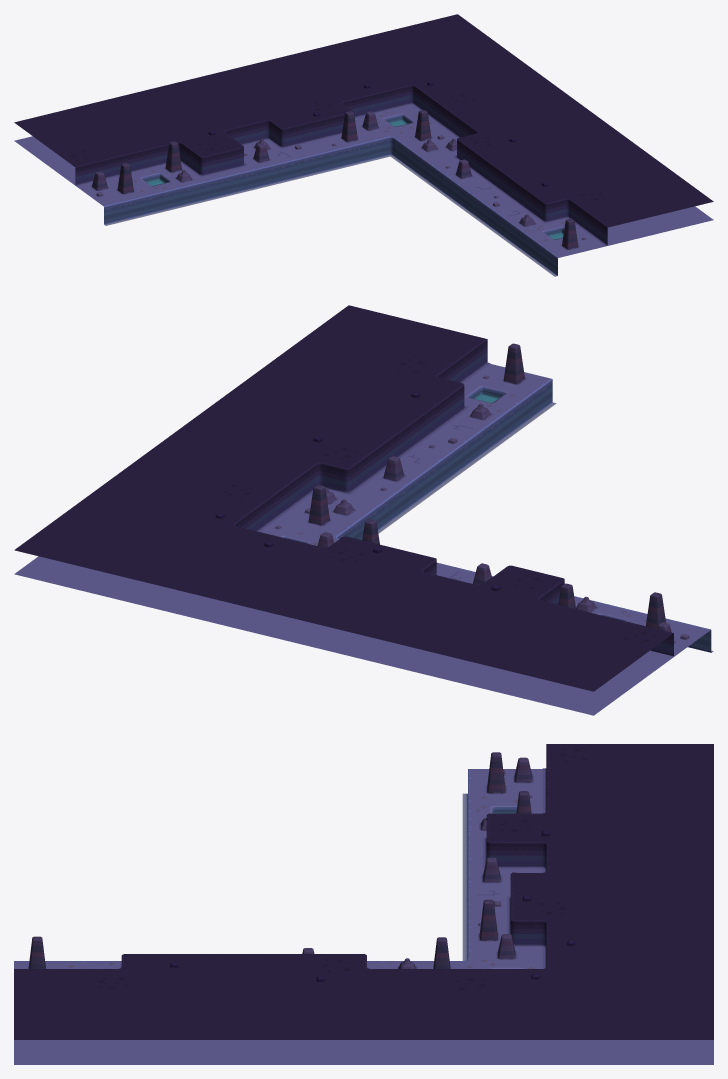
The model's file is C_cave1_out_LD.fbx.
The picture shows the model from 3 angles, top to bottom: view 1: azimuth 30°, elevation 25°; view 2: azimuth 150°, elevation 25°; view 3: azimuth 270°, elevation 25°; orthographic projection. The views are drawn at different scales.
Visible parts, largest first — view 1: C_cave1_out_LD; view 2: C_cave1_out_LD; view 3: C_cave1_out_LD.
Boxes of the visible parts, bbox=[...] form: C_cave1_out_LD: bbox=[14, 14, 713, 276]; C_cave1_out_LD: bbox=[14, 305, 713, 715]; C_cave1_out_LD: bbox=[14, 744, 713, 1064].
Size of the model in its own units: 117 by 11.26 by 117.
